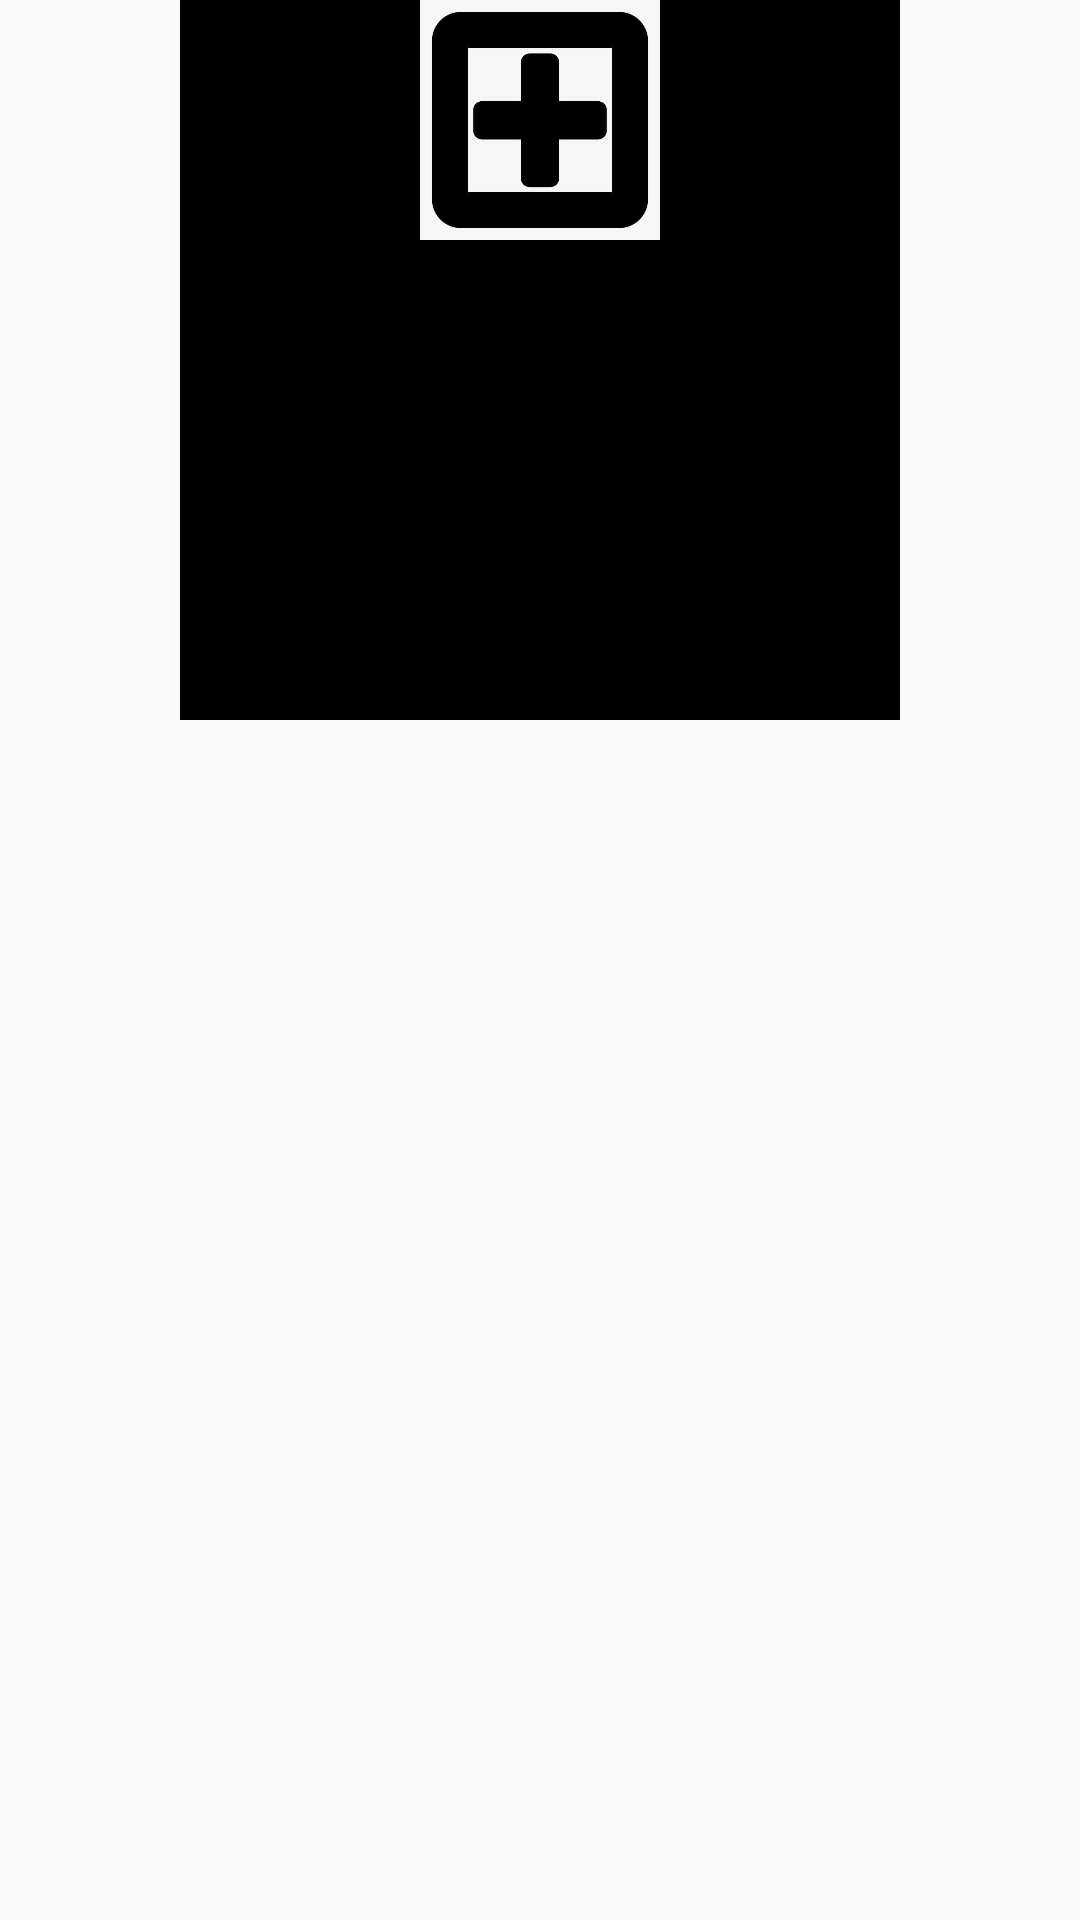

Named icons in this screenshot (1080w x 1920h) and their centers, point (x, y):
add: point (540, 120)
